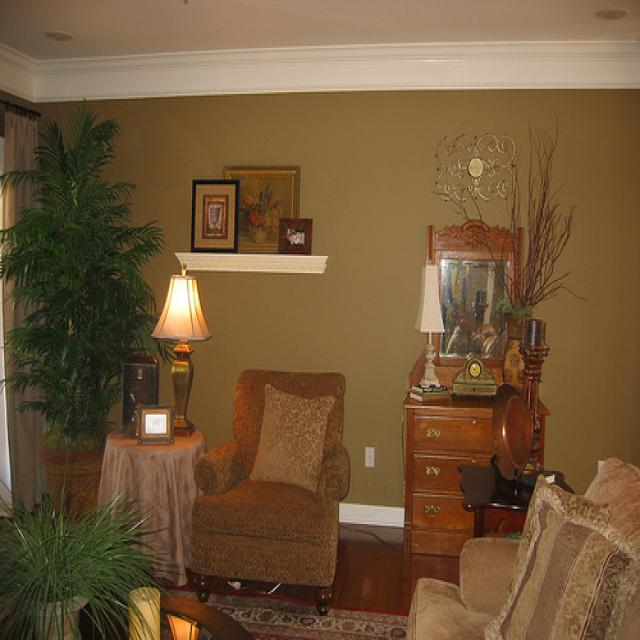chair: (189, 368, 352, 619)
pottedplant: (1, 94, 181, 523), (1, 468, 185, 639)
sofa: (402, 459, 640, 640)
